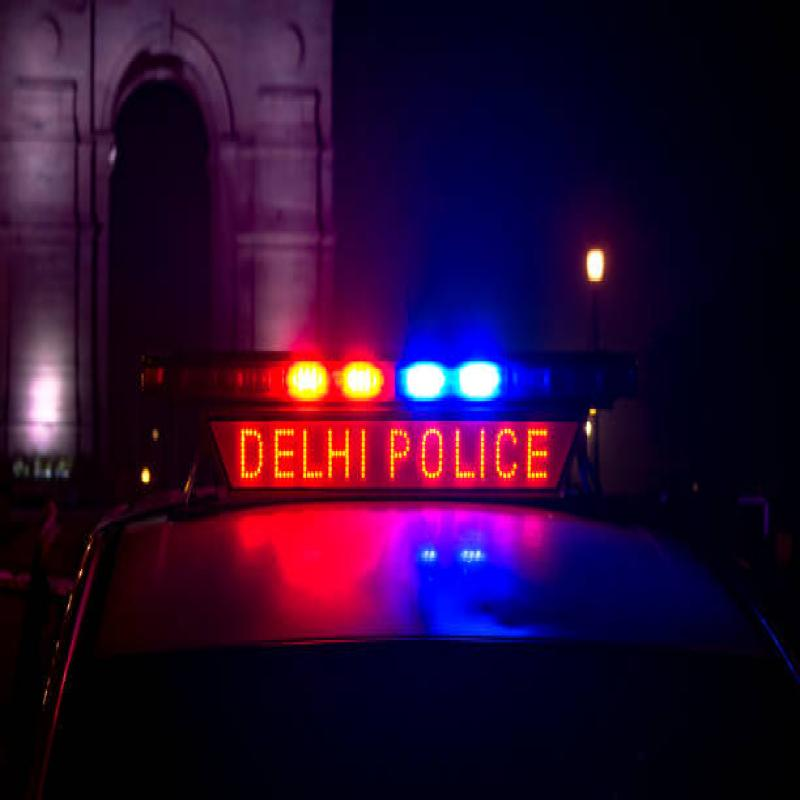AmbulanceSiren: (209, 328, 576, 412)
